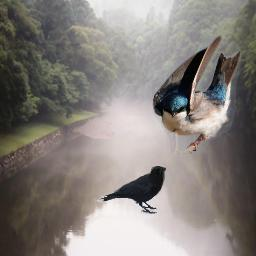Crow: (100, 166, 166, 214)
Swallow: (152, 34, 242, 154)
